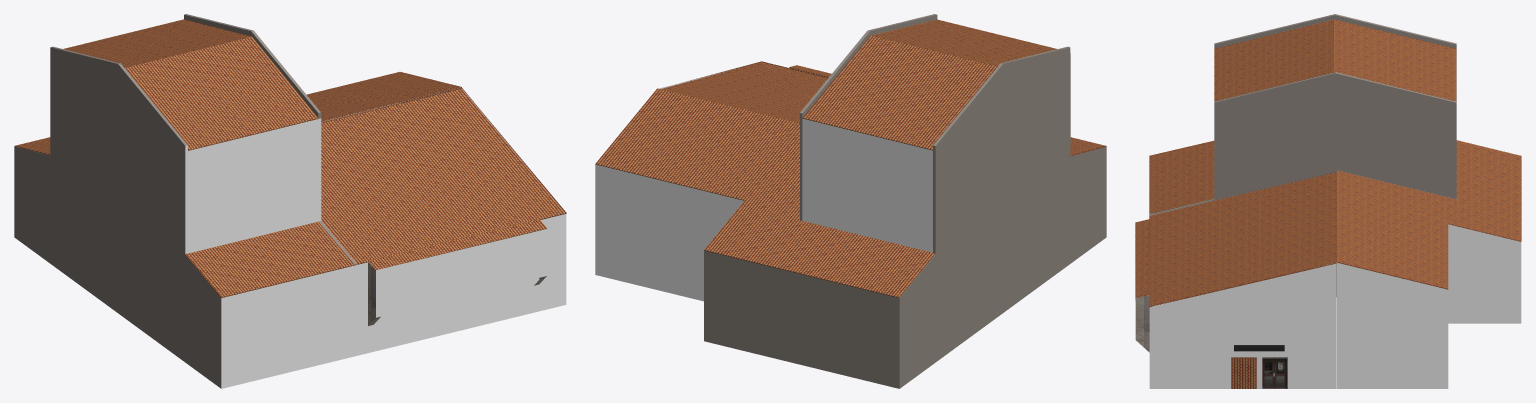
The model's file is Dolphin8.fbx.
3 renders of one model, left to right at view 1: azimuth 30°, elevation 25°; view 2: azimuth 150°, elevation 25°; view 3: azimuth 270°, elevation 25°, orthographic. The views are drawn at different scales.
Parts seen in each view (by area): view 1: Group1, Group_7, Group_8, Model, Group_5; view 2: Group1, Group_7, Group_8; view 3: Group1, Group_7, Group_8, Group_1, Dolphin3D_Block_dwg1, Group_6, Group_31.
Boxes of the visible parts, x1,y1,x2,y2 form: Group1: [14, 14, 566, 388]; Group_7: [15, 72, 566, 297]; Group_8: [63, 19, 318, 150]; Model: [376, 229, 546, 317]; Group_5: [368, 262, 380, 325]; Group1: [595, 14, 1106, 388]; Group_7: [595, 61, 1106, 297]; Group_8: [802, 19, 1057, 150]; Group1: [1149, 14, 1456, 388]; Group_7: [1135, 140, 1521, 306]; Group_8: [1214, 19, 1456, 101]; Group_1: [1448, 224, 1521, 323]; Dolphin3D_Block_dwg1: [1231, 357, 1287, 388]; Group_6: [1135, 295, 1149, 352]; Group_31: [1234, 345, 1284, 351].
Size of the model in its own units: 1006 by 690 by 1078.
